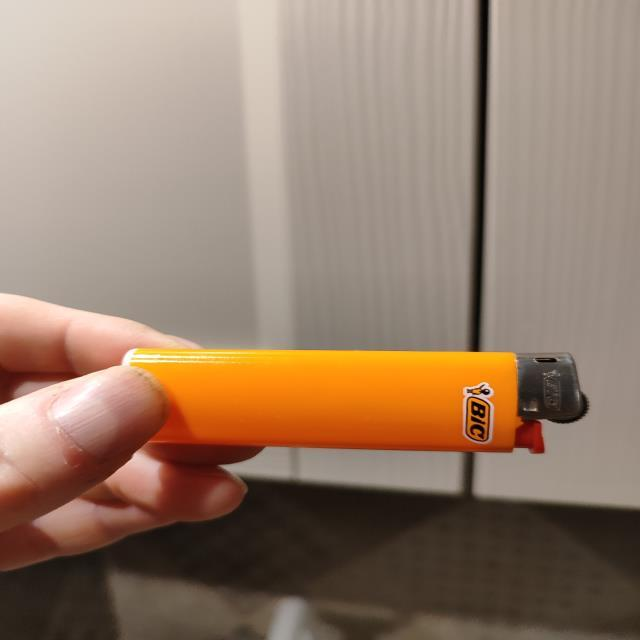lighter: (124, 349, 587, 453)
